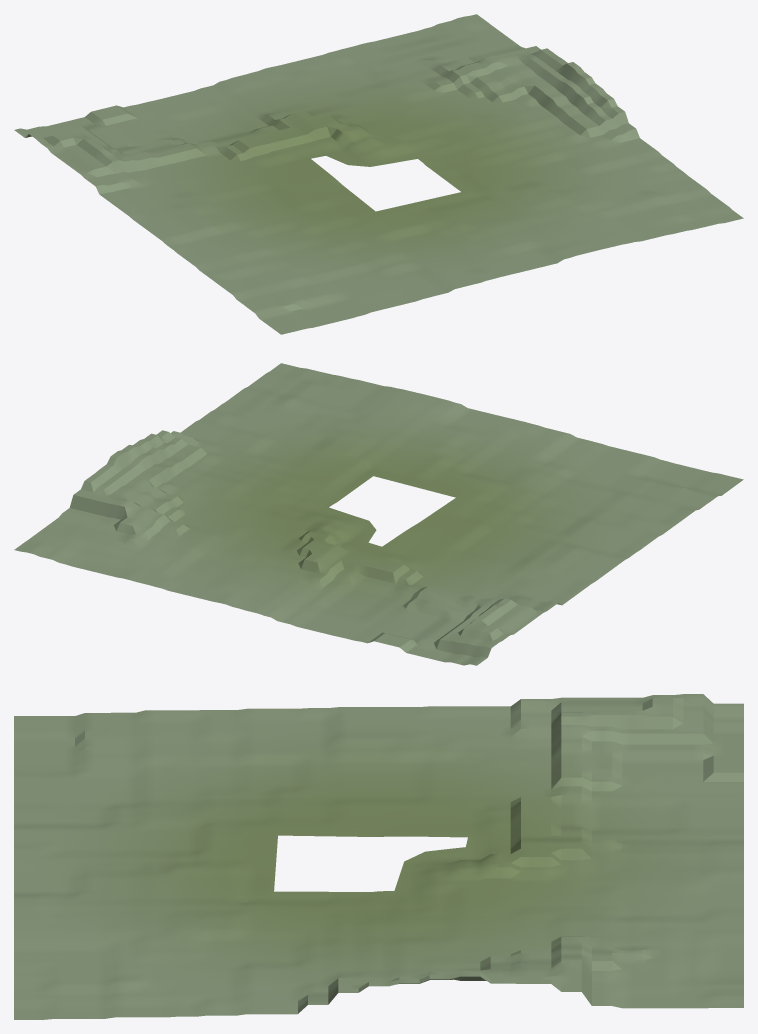
3 views of the same model, one above another, from view 1: azimuth 30°, elevation 25°; view 2: azimuth 150°, elevation 25°; view 3: azimuth 270°, elevation 25° (orthographic). The views are drawn at different scales.
Visible parts, largest first — view 1: surface_context-terrain; view 2: surface_context-terrain; view 3: surface_context-terrain.
Part boxes in pixels (bbox=[...]): surface_context-terrain: bbox=[14, 14, 743, 334]; surface_context-terrain: bbox=[14, 363, 743, 665]; surface_context-terrain: bbox=[14, 694, 743, 1019].
Size of the model in its own units: 720 by 53.27 by 720.
1 material, 1 textured.
